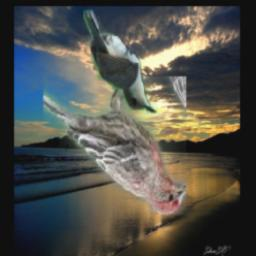Cuckoo: (83, 10, 157, 115)
Sparrow: (43, 76, 186, 215)
